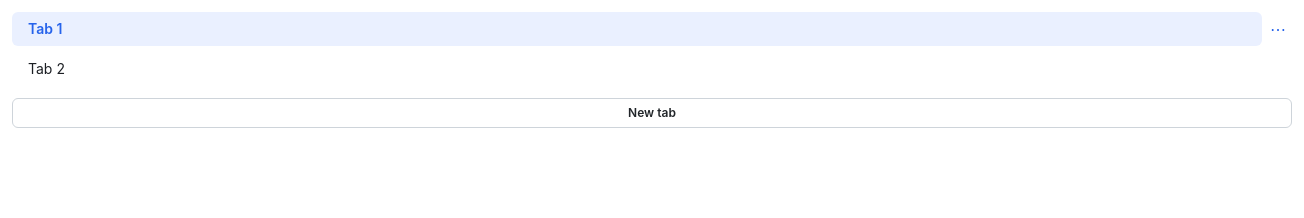
Test case: TabBar › Move up is disabled on the first tab
The width and height of the screenshot is (1304, 218).
Click the button named "Tab actions".
click(1278, 29)  # box [1264,15,1292,43]
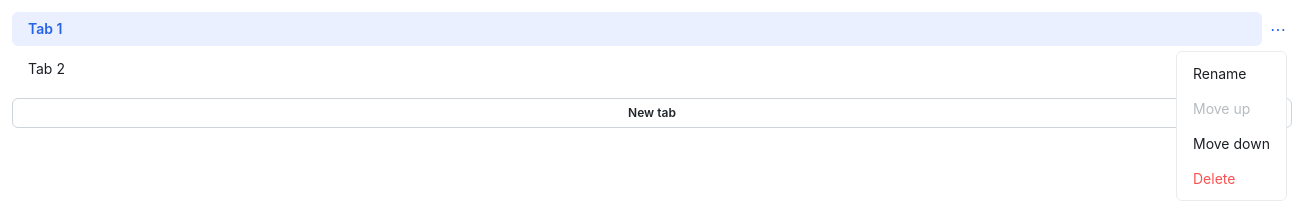
Result: the menu item "Move up" is disabled at [1181,91,1282,126]
